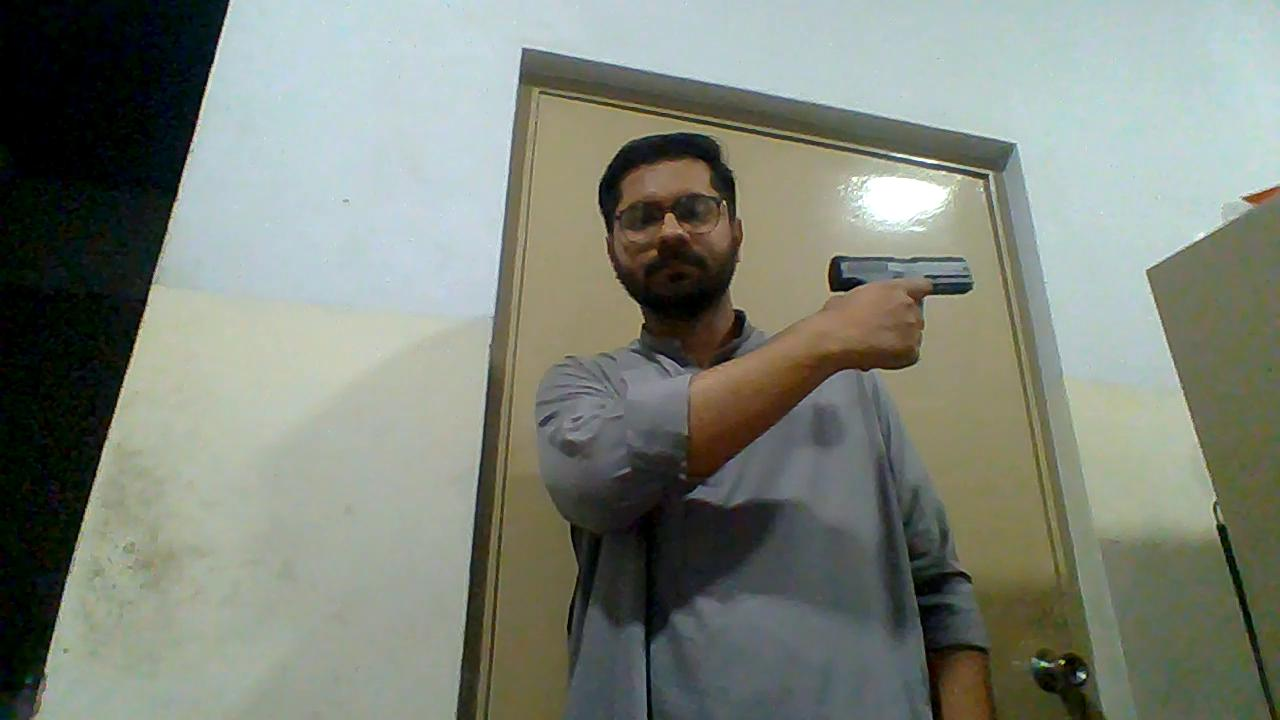criminal: (532, 127, 993, 720)
weapon: (823, 253, 976, 309)
